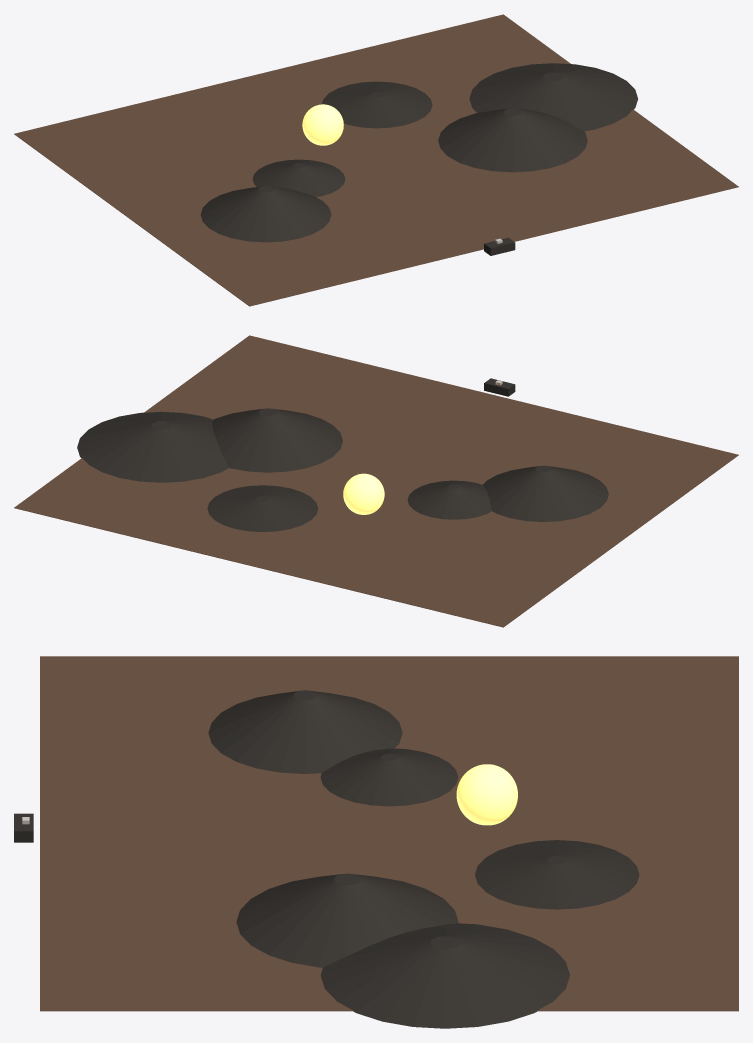
The model's file is livingroom.glb.
The picture shows the model from 3 angles, top to bottom: view 1: azimuth 30°, elevation 25°; view 2: azimuth 150°, elevation 25°; view 3: azimuth 270°, elevation 25°; orthographic projection. The views are drawn at different scales.
Parts seen in each view (by area): view 1: lava, ridge3, ridge2, ridge0, ridge4, ridge1, sun; view 2: lava, ridge3, ridge2, ridge0, ridge4, ridge1, sun; view 3: lava, ridge3, ridge2, ridge0, ridge4, ridge1, sun.
Boxes of the visible parts, x1,y1,x2,y2 form: lava: [14, 14, 738, 306]; ridge3: [469, 63, 637, 131]; ridge2: [438, 108, 587, 172]; ridge0: [200, 186, 331, 242]; ridge4: [322, 81, 432, 128]; ridge1: [252, 159, 345, 197]; sun: [302, 104, 343, 145]; lava: [14, 335, 738, 627]; ridge3: [77, 411, 228, 482]; ridge2: [212, 408, 342, 472]; ridge0: [483, 465, 608, 521]; ridge4: [207, 485, 318, 531]; ridge1: [407, 480, 491, 519]; sun: [343, 473, 384, 514]; lava: [40, 656, 738, 1011]; ridge3: [320, 923, 569, 1028]; ridge2: [236, 873, 458, 967]; ridge0: [208, 690, 402, 773]; ridge4: [475, 840, 639, 909]; ridge1: [320, 748, 458, 806]; sun: [456, 764, 517, 825].
Size of the model in its own units: 630 by 44 by 518.
